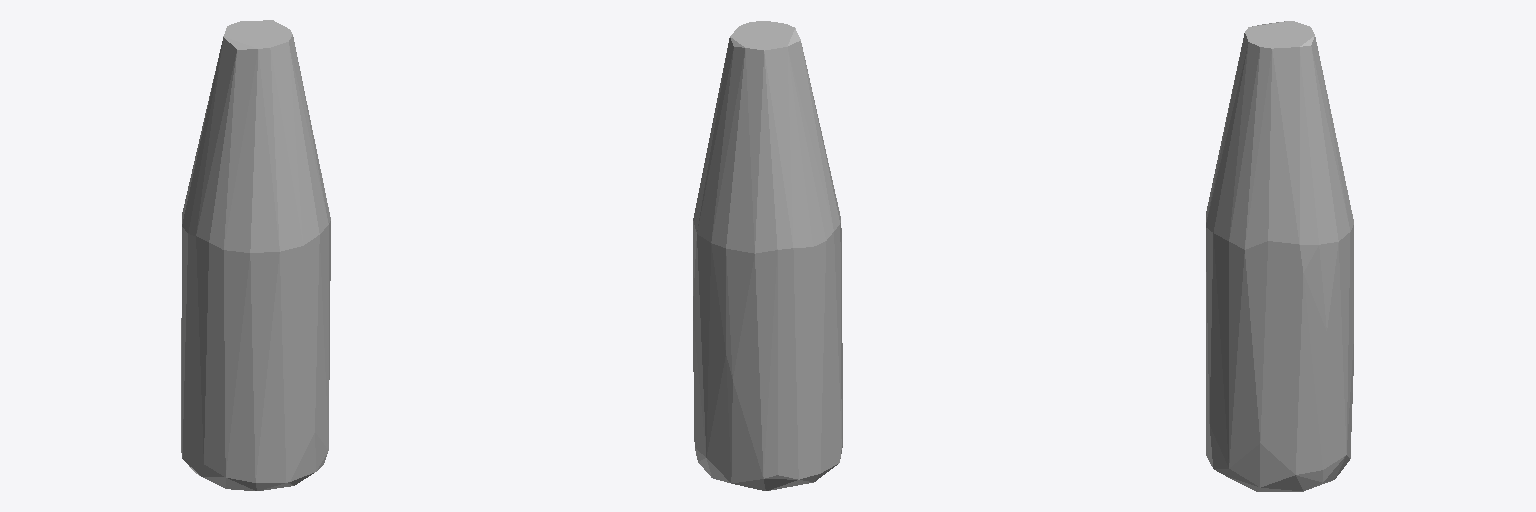
URDF robot description (root):
<robot name="root"><link name="link_ketchup_bottle_0000"><inertial><origin rpy="0 0 0" xyz="0 0 0" /><mass value="1.03E+00" /><inertia ixx="1.76E-03" ixy="-2.42E-07" ixz="-1.23E-05" iyy="1.76E-03" iyz="-2.87E-06" izz="2.50E-04" /></inertial><visual><origin rpy="0 0 0" xyz="0 0 0" /><geometry><mesh filename="package://ketchup_bottle/ketchup_bottle_0000.obj" /></geometry><material name=""><color rgba="0.75 0.75 0.75 1" /></material></visual><collision><origin rpy="0 0 0" xyz="0 0 0" /><geometry><mesh filename="package://ketchup_bottle/ketchup_bottle_0000.obj" /></geometry></collision></link></robot>

--- Facts derived from the render (not from the file) ---
Views: 3 orthographic renders of the robot side by side, from view 1: azimuth 30°, elevation 25°; view 2: azimuth 150°, elevation 25°; view 3: azimuth 270°, elevation 25°.
Model root with 1 links and 0 joints (none), rooted at link_ketchup_bottle_0000, posed all joints at 0.
Visible links, largest first — view 1: link_ketchup_bottle_0000; view 2: link_ketchup_bottle_0000; view 3: link_ketchup_bottle_0000.
Link boxes in pixels (box(x1,y1,x2,y2)): link_ketchup_bottle_0000: box(181, 20, 330, 490); link_ketchup_bottle_0000: box(693, 21, 842, 490); link_ketchup_bottle_0000: box(1206, 21, 1353, 491).
Size in the robot's own frame: 0.0455 by 0.0467 by 0.15 metres.
Meshes: 1 distinct files referenced, 1 mesh visuals loaded (1 OBJ).